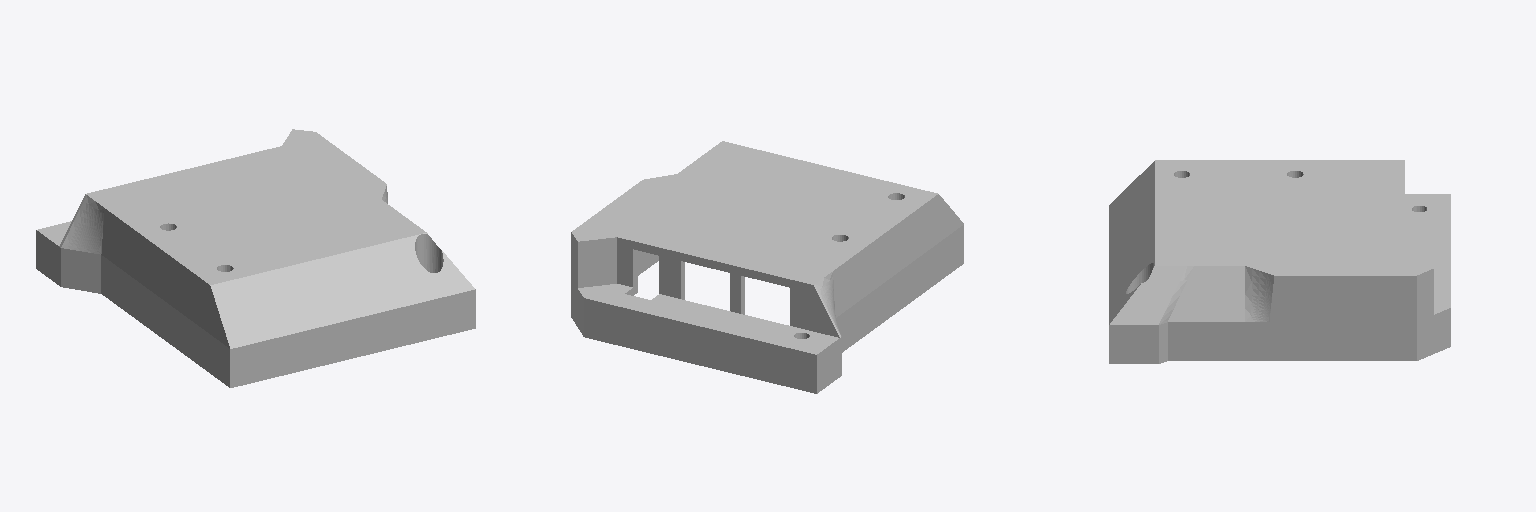
Rendered from main-top.obj.
3 renders of one model, left to right at view 1: azimuth 30°, elevation 25°; view 2: azimuth 150°, elevation 25°; view 3: azimuth 270°, elevation 25°, orthographic.
Visible parts, largest first — view 1: Body1; view 2: Body1; view 3: Body1.
Part boxes in pixels (left/top/right/bottom): Body1: left=36, top=129, right=475, bottom=387; Body1: left=571, top=141, right=963, bottom=393; Body1: left=1109, top=160, right=1450, bottom=363.
Size of the model in its own units: 54.45 by 16.6 by 60.